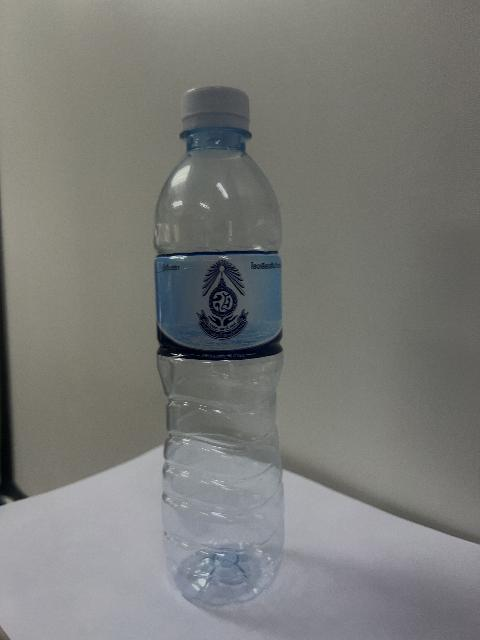bottle: (155, 87, 283, 605)
